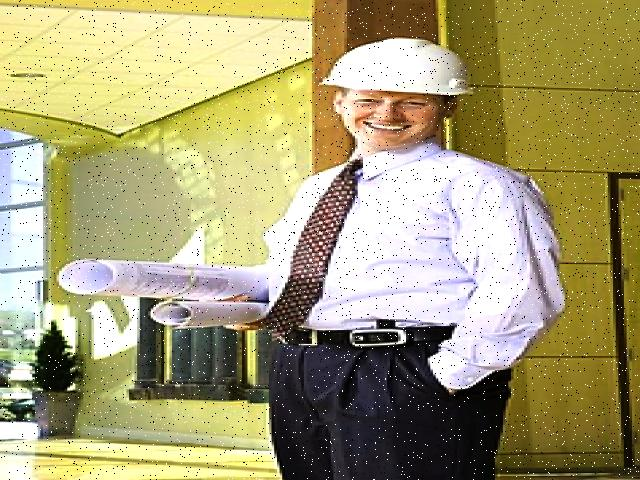Helmet: (314, 31, 486, 100)
